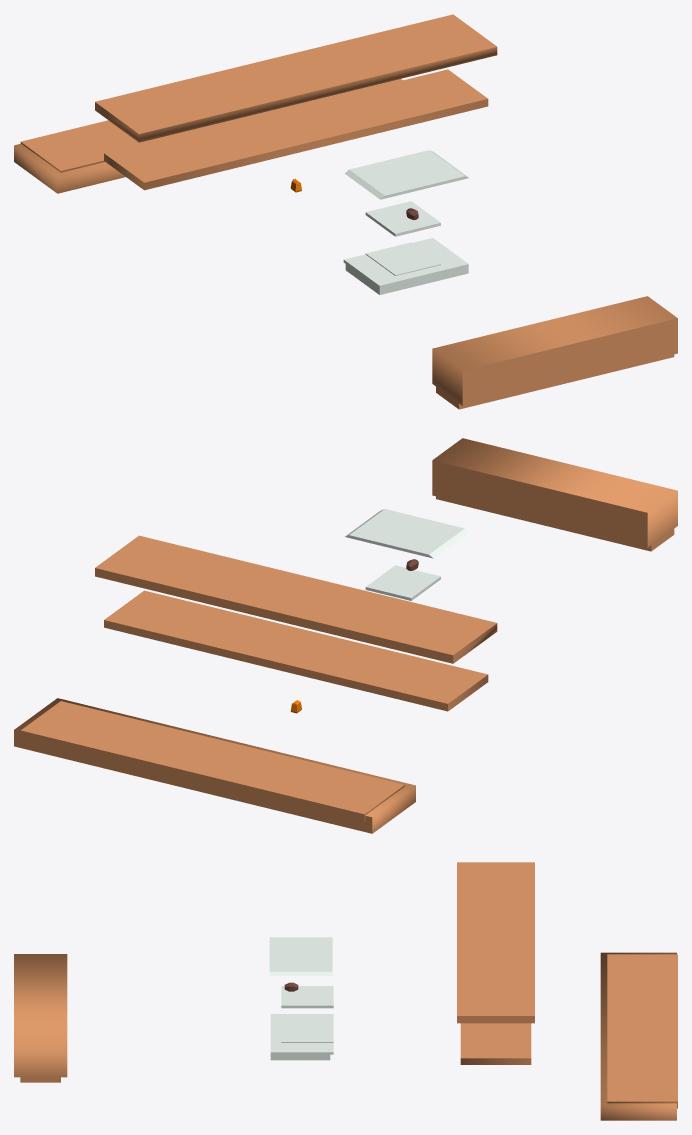
3 views of the same model, one above another, from view 1: azimuth 30°, elevation 25°; view 2: azimuth 150°, elevation 25°; view 3: azimuth 270°, elevation 25° (orthographic). The views are drawn at different scales.
Parts seen in each view (by area): view 1: kitchenCabinet1.001_ID7.003_kitchenCabinet1.001_ID7.004, kitchenCabinet1.001_ID7.005_kitchenCabinet1.001_ID7.000, kitchenBar.002_ID9.000, kitchenCabinet1.001_ID7.005_kitchenCabinet1.001_ID7.006, fridge1.001_ID5.011, fridge1.001_ID5.012, kitchenCabinet1.001_ID7.002, fridge1.001_ID5.000, fridge1.001_ID5.004; view 2: kitchenCabinet1.001_ID7.003_kitchenCabinet1.001_ID7.004, kitchenCabinet1.001_ID7.005_kitchenCabinet1.001_ID7.000, kitchenCabinet1.001_ID7.005_kitchenCabinet1.001_ID7.006, kitchenBar.002_ID9.000, kitchenCabinet1.001_ID7.002, fridge1.001_ID5.011, fridge1.001_ID5.000; view 3: kitchenCabinet1.001_ID7.003_kitchenCabinet1.001_ID7.004, kitchenCabinet1.001_ID7.005_kitchenCabinet1.001_ID7.006, kitchenBar.002_ID9.000, kitchenCabinet1.001_ID7.005_kitchenCabinet1.001_ID7.000, kitchenCabinet1.001_ID7.002, fridge1.001_ID5.011, fridge1.001_ID5.012, fridge1.001_ID5.000, fridge1.001_ID5.004.
Part boxes in pixels (left/top/right/bottom): kitchenCabinet1.001_ID7.003_kitchenCabinet1.001_ID7.004: left=95, top=14, right=497, bottom=142; kitchenCabinet1.001_ID7.005_kitchenCabinet1.001_ID7.000: left=104, top=69, right=488, bottom=190; kitchenBar.002_ID9.000: left=432, top=296, right=677, bottom=409; kitchenCabinet1.001_ID7.005_kitchenCabinet1.001_ID7.006: left=20, top=80, right=396, bottom=172; fridge1.001_ID5.011: left=345, top=150, right=468, bottom=199; fridge1.001_ID5.012: left=343, top=238, right=468, bottom=294; kitchenCabinet1.001_ID7.002: left=14, top=79, right=402, bottom=193; fridge1.001_ID5.000: left=365, top=201, right=440, bottom=236; fridge1.001_ID5.004: left=365, top=242, right=440, bottom=275; kitchenCabinet1.001_ID7.003_kitchenCabinet1.001_ID7.004: left=95, top=535, right=497, bottom=663; kitchenCabinet1.001_ID7.005_kitchenCabinet1.001_ID7.000: left=104, top=590, right=488, bottom=711; kitchenCabinet1.001_ID7.005_kitchenCabinet1.001_ID7.006: left=20, top=701, right=404, bottom=821; kitchenBar.002_ID9.000: left=432, top=438, right=677, bottom=551; kitchenCabinet1.001_ID7.002: left=14, top=698, right=415, bottom=833; fridge1.001_ID5.011: left=345, top=509, right=469, bottom=558; fridge1.001_ID5.000: left=365, top=565, right=440, bottom=600; kitchenCabinet1.001_ID7.003_kitchenCabinet1.001_ID7.004: left=457, top=862, right=534, bottom=1023; kitchenCabinet1.001_ID7.005_kitchenCabinet1.001_ID7.006: left=607, top=954, right=677, bottom=1108; kitchenBar.002_ID9.000: left=14, top=954, right=67, bottom=1082; kitchenCabinet1.001_ID7.005_kitchenCabinet1.001_ID7.000: left=460, top=1023, right=531, bottom=1064; kitchenCabinet1.001_ID7.002: left=600, top=952, right=676, bottom=1120; fridge1.001_ID5.011: left=269, top=937, right=332, bottom=975; fridge1.001_ID5.012: left=270, top=1014, right=333, bottom=1060; fridge1.001_ID5.000: left=281, top=986, right=333, bottom=1008; fridge1.001_ID5.004: left=281, top=1022, right=333, bottom=1042.
Size of the model in its own units: 6.27 by 1.99 by 11.44.
